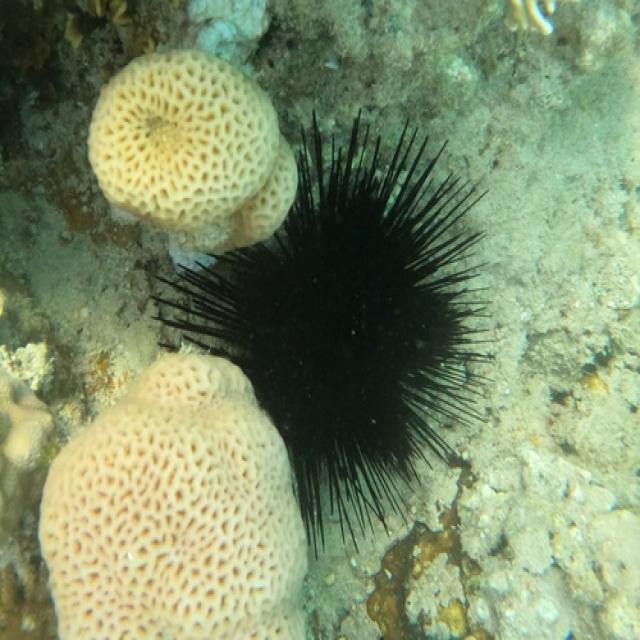Urchin: (157, 105, 496, 550)
